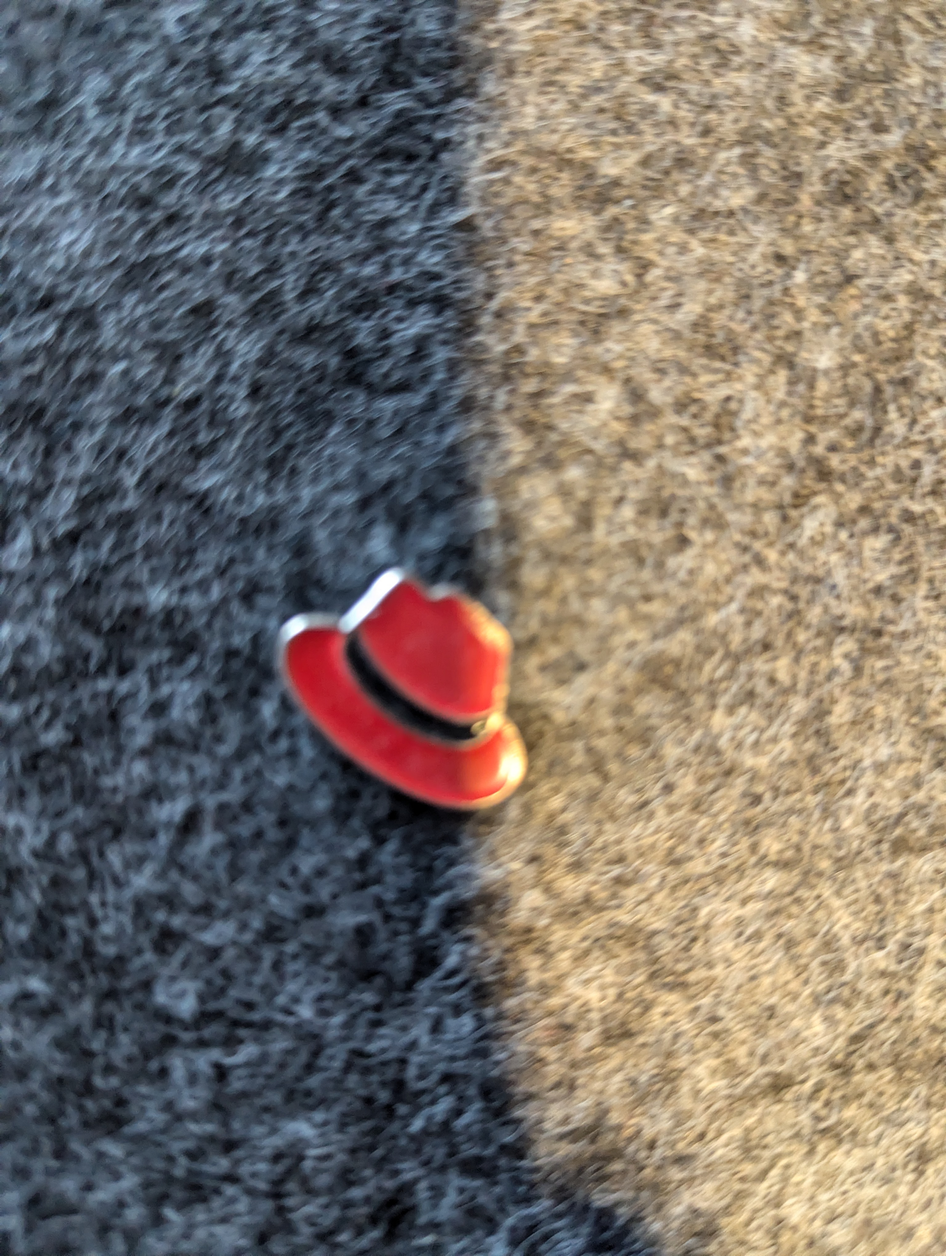Red-Hat: (257, 541, 556, 837)
